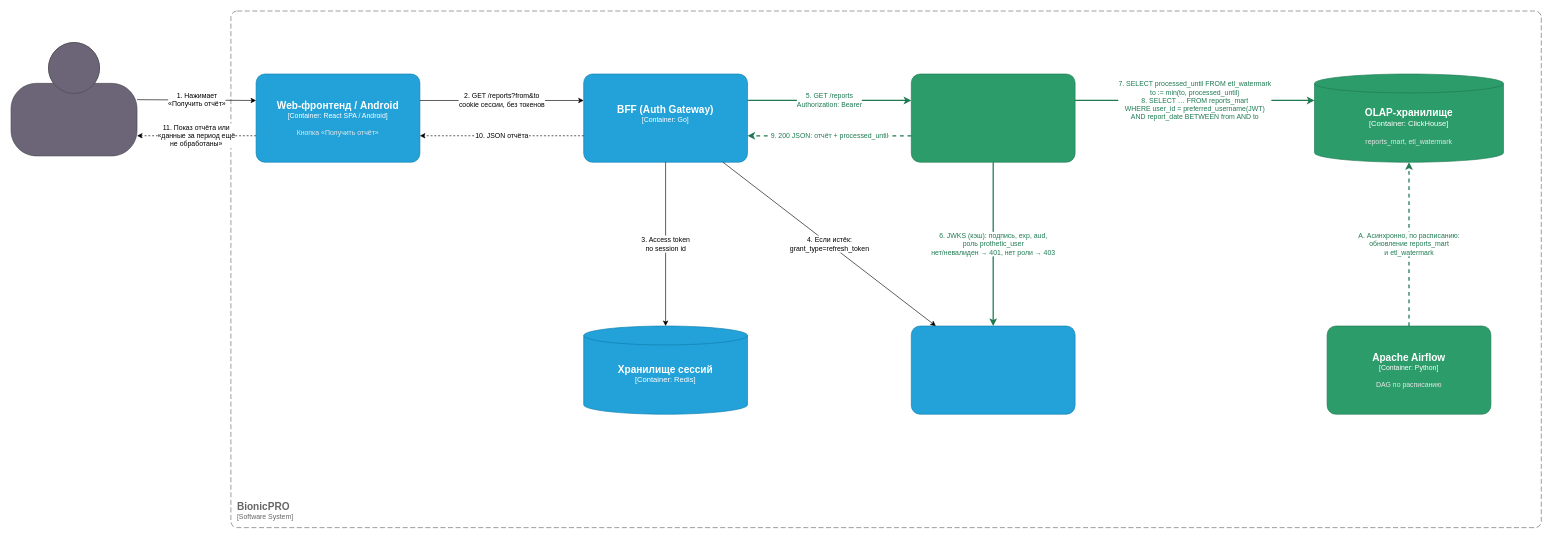
Some shapes in this 1552 by 539 pixel diagram are drawn without their labels. Each missing label, with the centre of its shape:
Keycloak [Container: Keycloak]: the point at 993,369
Пилот протеза [Person]: the point at 73,99
Сервис отчётов (Reports API) [Container: Go]: the point at 993,117
